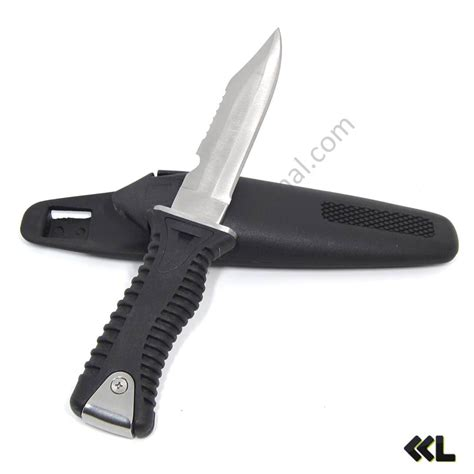knife: (68, 28, 282, 439)
